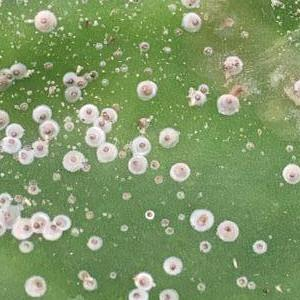Femea: (97, 145, 113, 162), (251, 239, 267, 253), (31, 140, 47, 154), (66, 86, 83, 99), (188, 92, 205, 104), (86, 237, 101, 250), (61, 75, 75, 85), (200, 240, 210, 251), (165, 225, 174, 237), (143, 210, 153, 219), (138, 41, 148, 50), (76, 75, 84, 86), (161, 217, 169, 227), (62, 122, 72, 129)
Macho: (230, 257, 238, 269)
